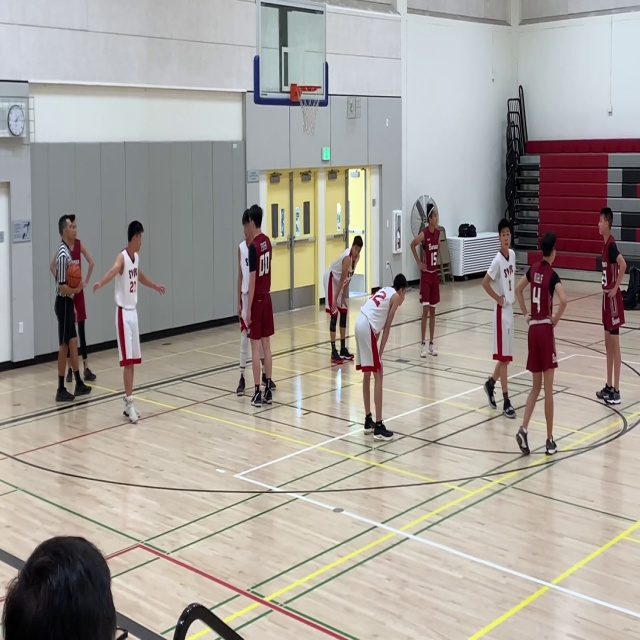Basketball: (65, 263, 82, 289)
